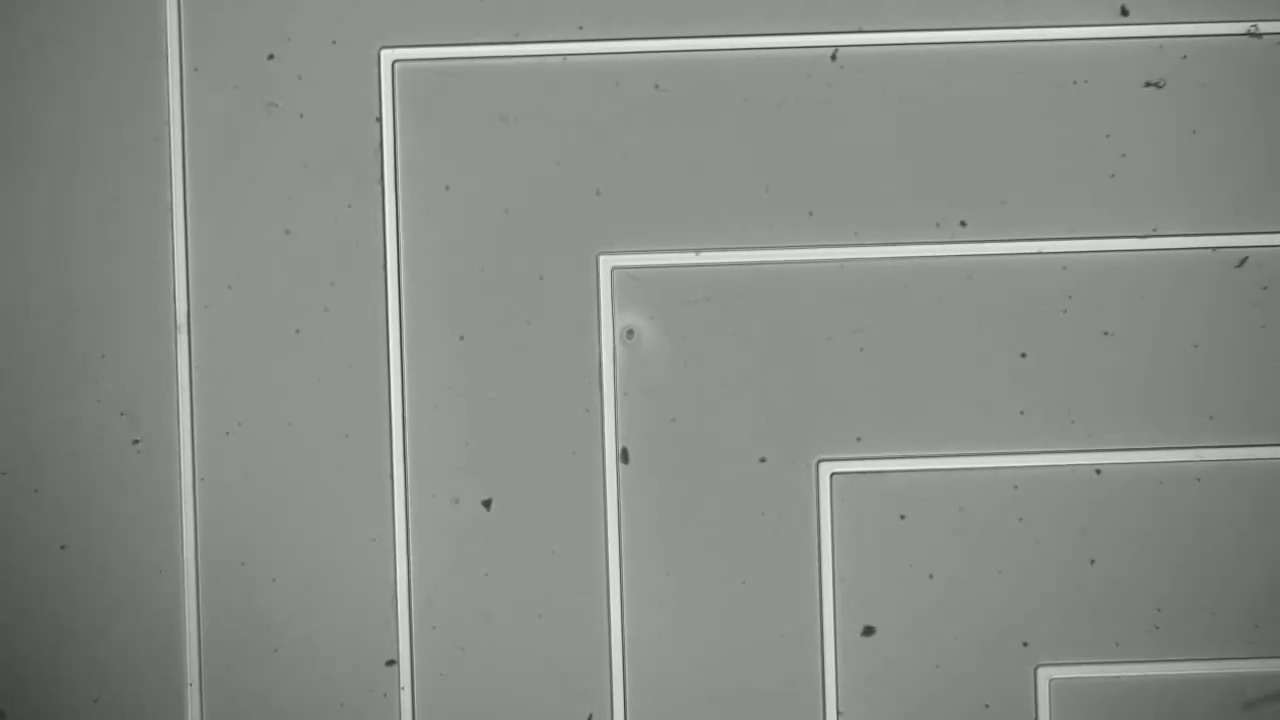stains_enbedded: (1241, 14, 1268, 52)
